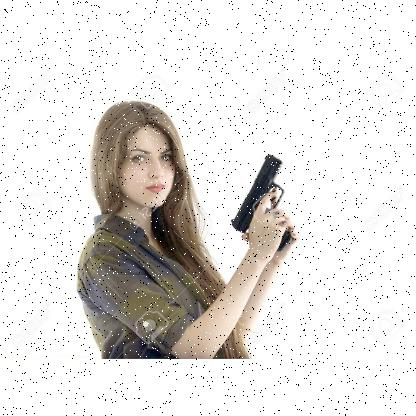gun: (230, 152, 292, 250)
